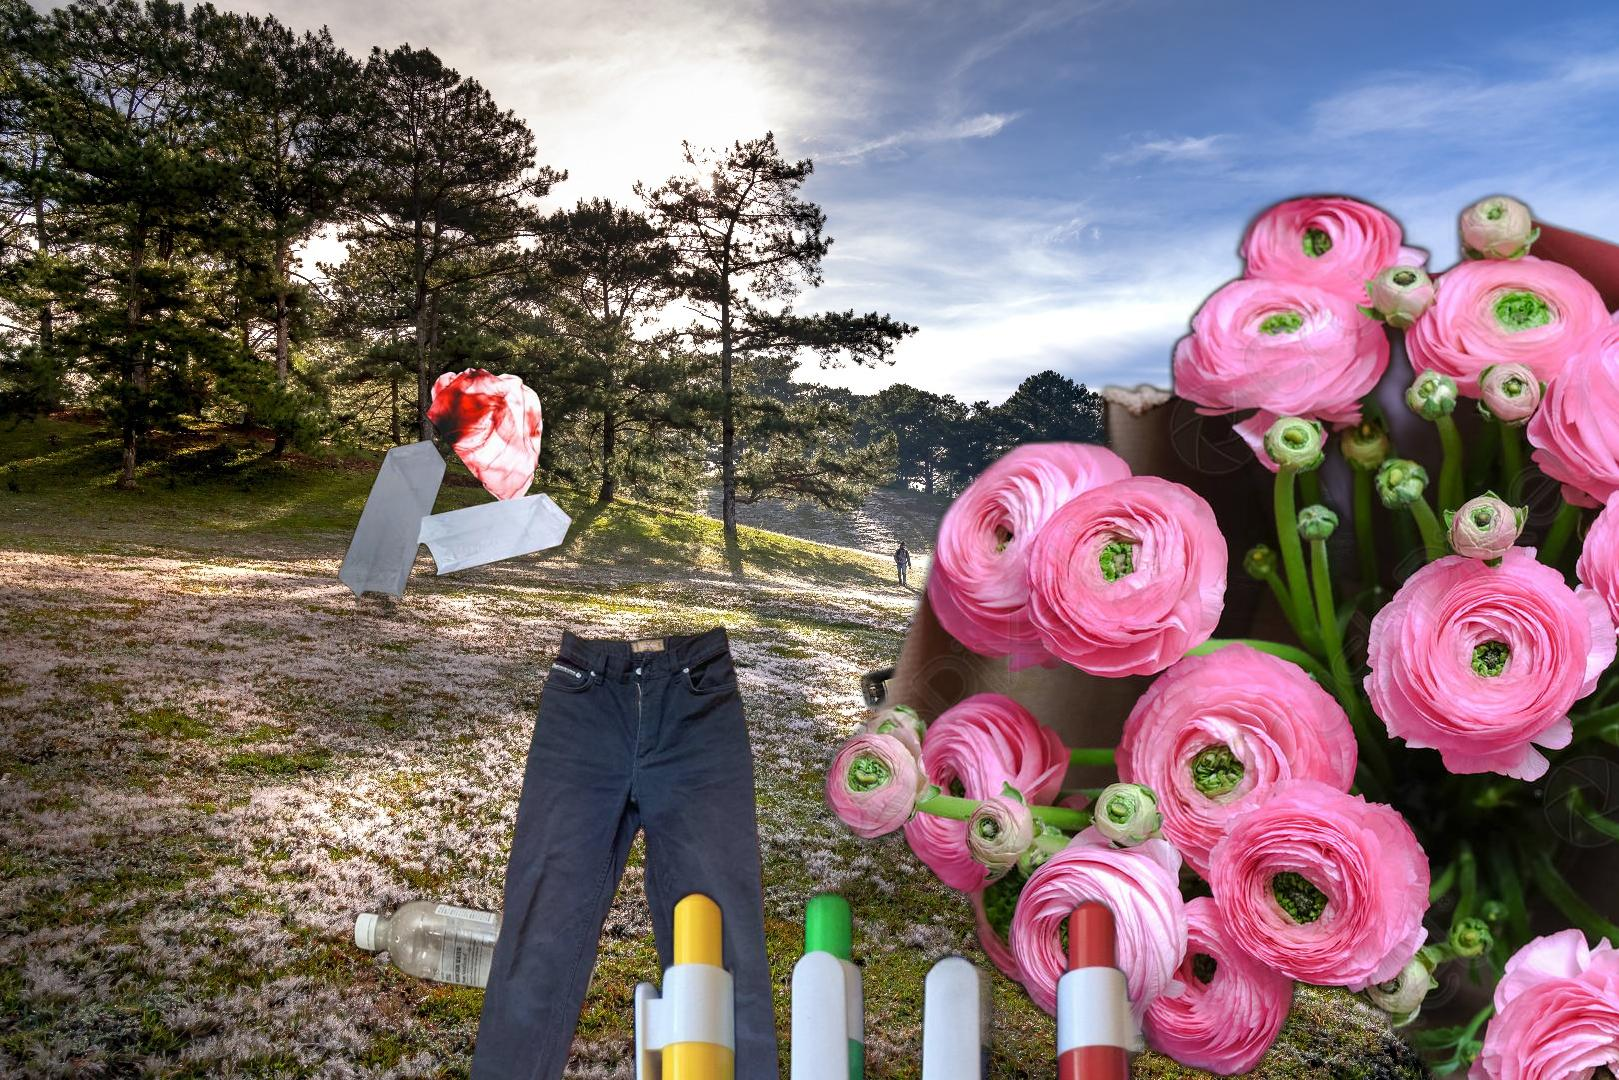clothes: (1185, 262, 1619, 622), (463, 612, 785, 1080)
glass: (546, 507, 980, 803)
penholder: (627, 879, 1160, 1080)
plastic-bag: (332, 365, 575, 618)
plastic-bottles: (350, 876, 785, 1080)
trashbox-cardboard: (797, 154, 1619, 1080)
